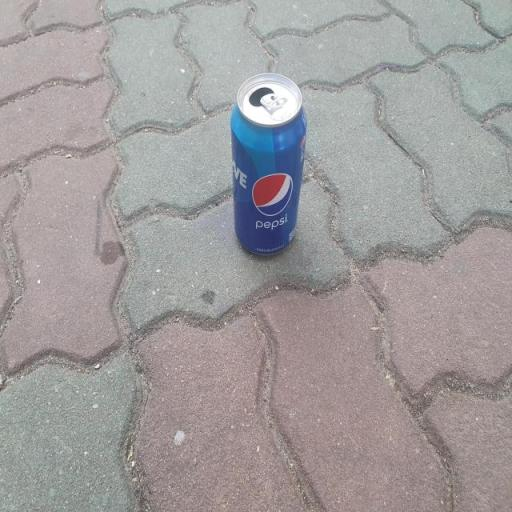metal: (216, 76, 328, 282)
